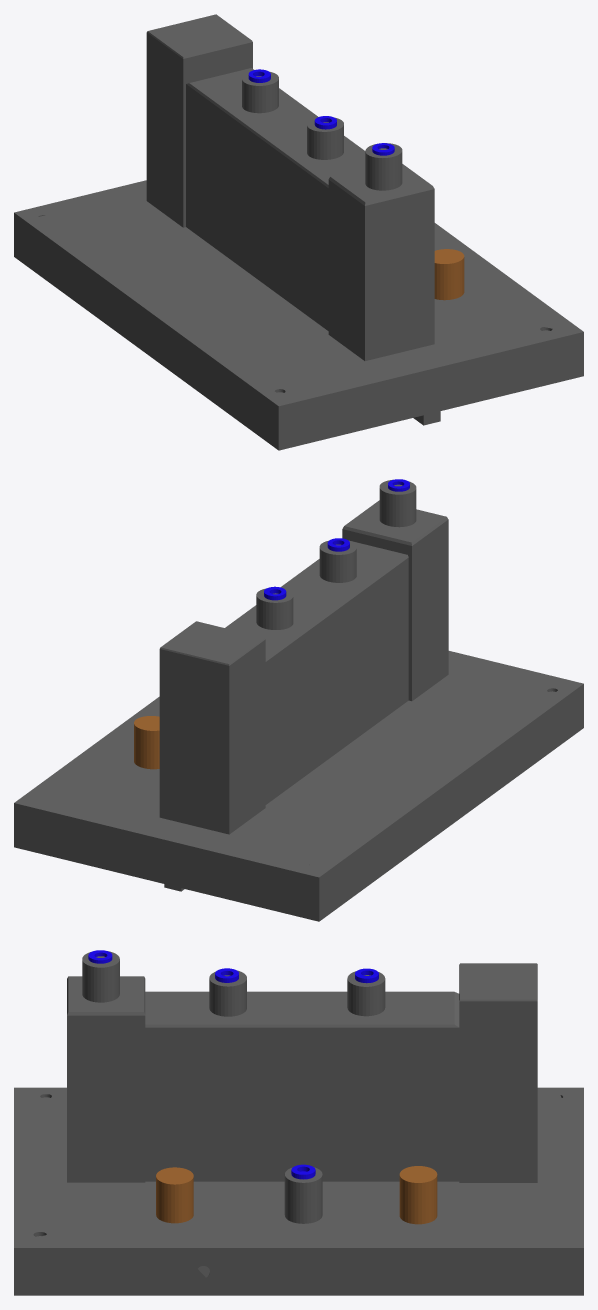
The model's file is 5_2 Wegeventil-.mitTextur.fbx.
The picture shows the model from 3 angles, top to bottom: view 1: azimuth 30°, elevation 25°; view 2: azimuth 150°, elevation 25°; view 3: azimuth 270°, elevation 25°; orthographic projection. The views are drawn at different scales.
Visible parts, largest first — view 1: Mittelteil; view 2: Mittelteil; view 3: Mittelteil.
Part boxes in pixels (<box>): Mittelteil: <box>14,14,583,450</box>; Mittelteil: <box>14,479,583,921</box>; Mittelteil: <box>14,950,583,1295</box>.
Bounding box in the file's own units: 128 × 104 × 192.
